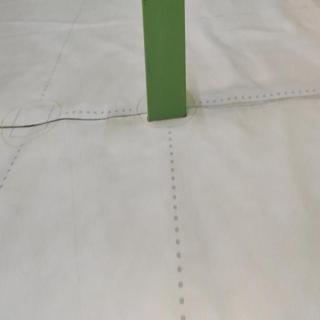greenbox: (139, 1, 192, 118)
